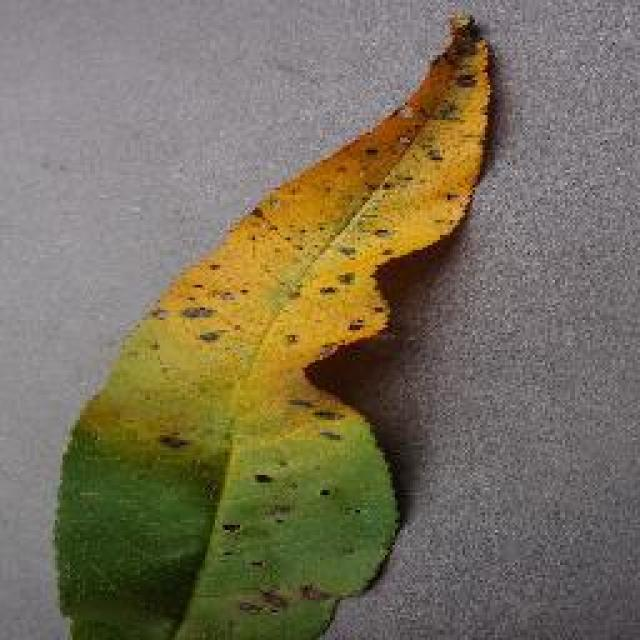Peach_Bacterial_Spot: (194, 90, 444, 405)
